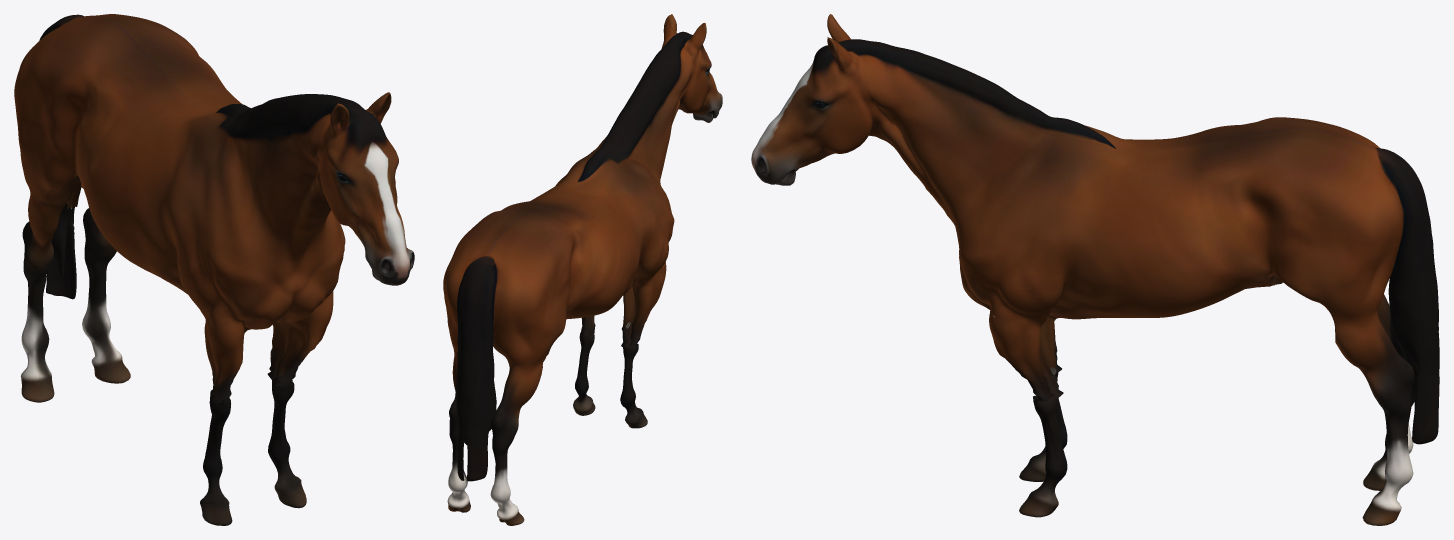
The model's file is horse-client.glb.
3 views of the same model, side by side, from view 1: azimuth 30°, elevation 25°; view 2: azimuth 150°, elevation 25°; view 3: azimuth 270°, elevation 25° (orthographic). The views are drawn at different scales.
Parts seen in each view (by area): view 1: tripo_node_d1bbe9c3; view 2: tripo_node_d1bbe9c3; view 3: tripo_node_d1bbe9c3.
Part boxes in pixels (x1,y1,x2,y2): tripo_node_d1bbe9c3: (14, 14, 414, 525); tripo_node_d1bbe9c3: (443, 14, 722, 525); tripo_node_d1bbe9c3: (751, 14, 1439, 525).
Bounding box in the file's own units: 0.5842 × 1.7 × 2.22.
Materials: 1 (1 with a texture image).
